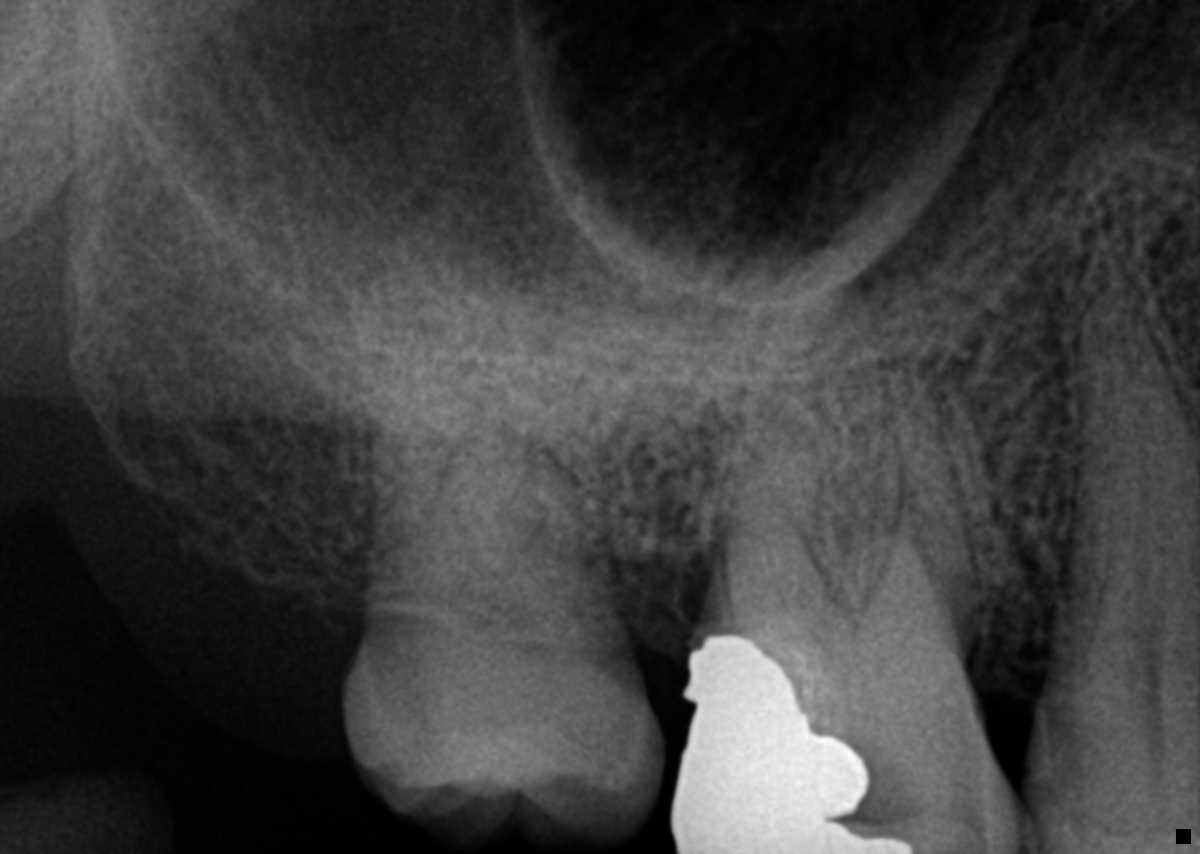Apical Lesion: (701, 379, 815, 483)
Distal Root: (719, 432, 847, 638)
Main Canal: (1135, 399, 1164, 664)
Main Root: (370, 262, 614, 632), (1047, 269, 1198, 671)
Mesial Root: (864, 367, 983, 673)
Palatal Root: (704, 243, 908, 628)
